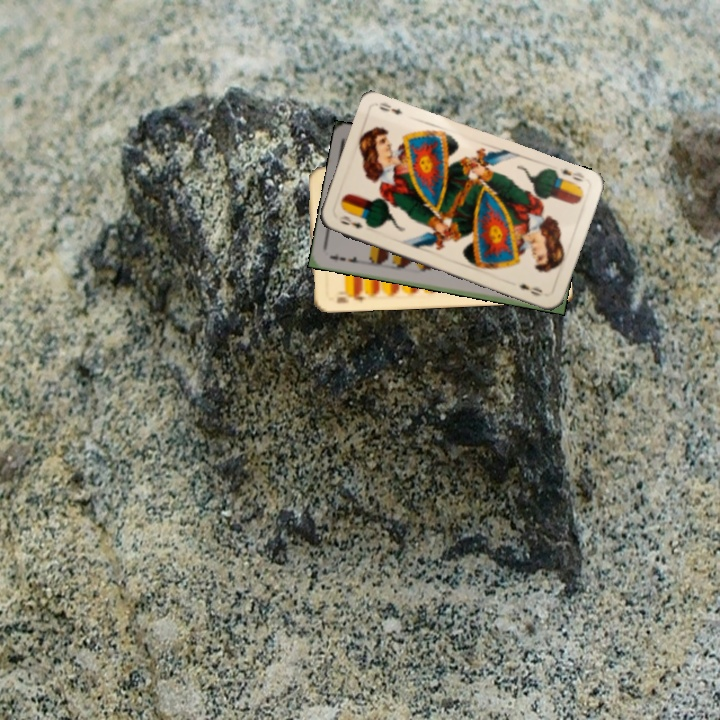E10: (332, 287, 368, 306)
E7: (325, 251, 366, 267)
EO: (334, 211, 365, 231), (556, 164, 587, 184)
